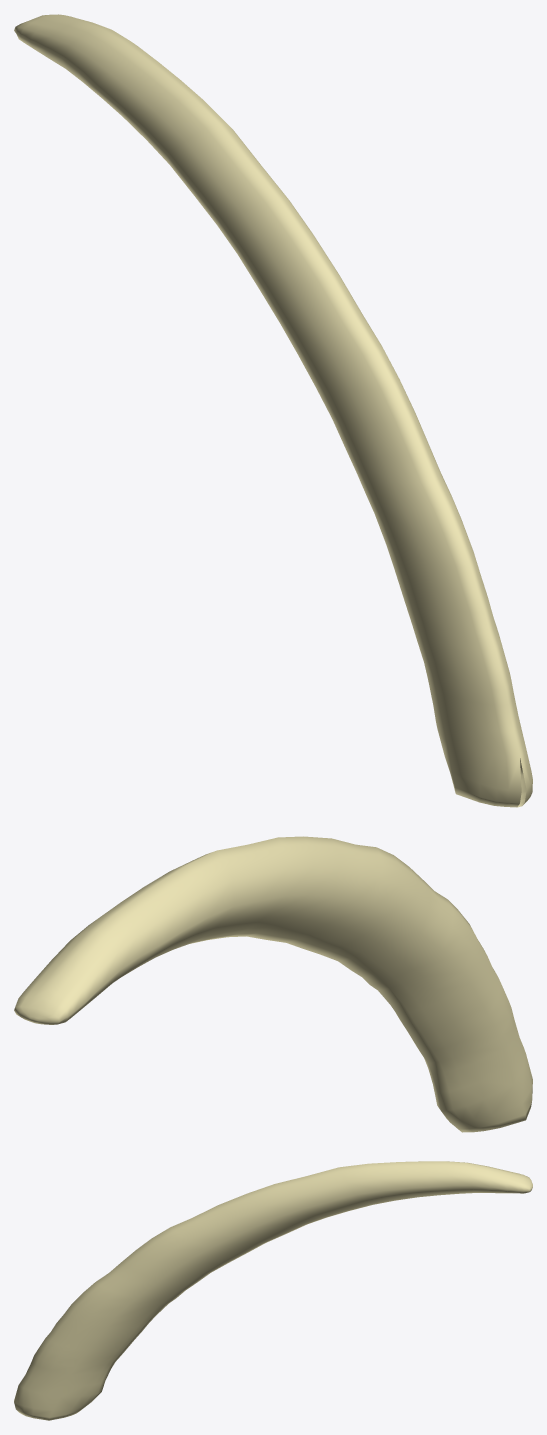
Rendered from Tusk.fbx.
The picture shows the model from 3 angles, top to bottom: view 1: azimuth 30°, elevation 25°; view 2: azimuth 150°, elevation 25°; view 3: azimuth 270°, elevation 25°; orthographic projection. The views are drawn at different scales.
Visible parts, largest first — view 1: Tusk - Dank Wenker; view 2: Tusk - Dank Wenker; view 3: Tusk - Dank Wenker.
Part boxes in pixels (<box>): Tusk - Dank Wenker: <box>14,14,532,807</box>; Tusk - Dank Wenker: <box>14,836,532,1132</box>; Tusk - Dank Wenker: <box>14,1161,532,1420</box>.
Bounding box in the file's own units: 9.78 × 62.91 × 118.
